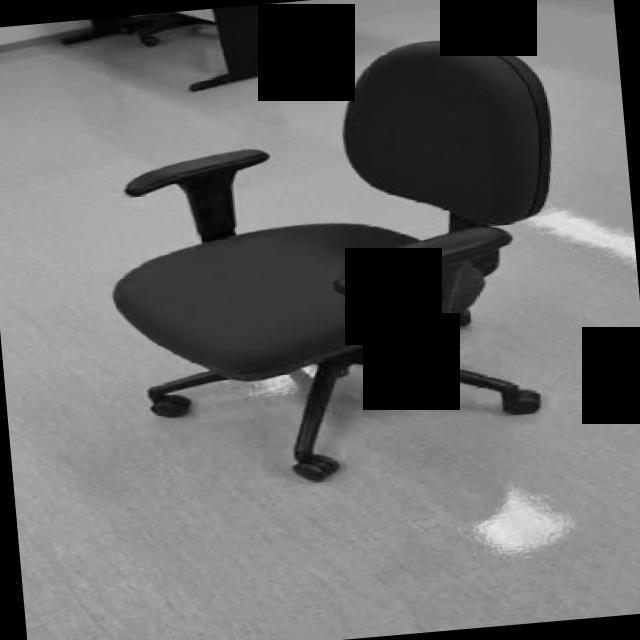chair: (92, 29, 584, 500)
